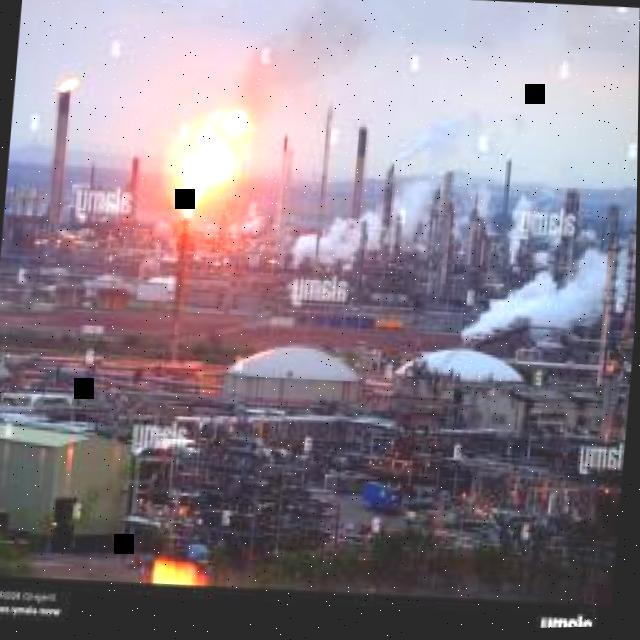fire: (184, 112, 250, 220)
smoke: (220, 2, 367, 127)
